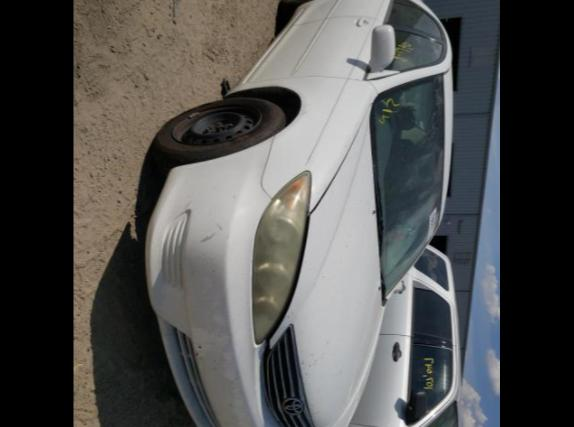Flaking: (198, 310, 251, 427)
Paint chip: (300, 338, 332, 380), (284, 310, 296, 326)
Scratch: (203, 226, 218, 241)
